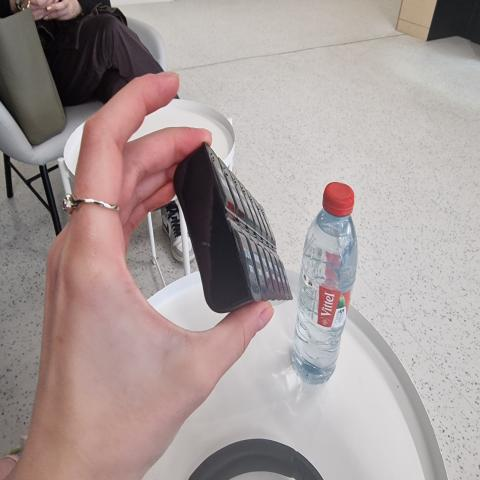PillBox: (162, 140, 298, 328)
